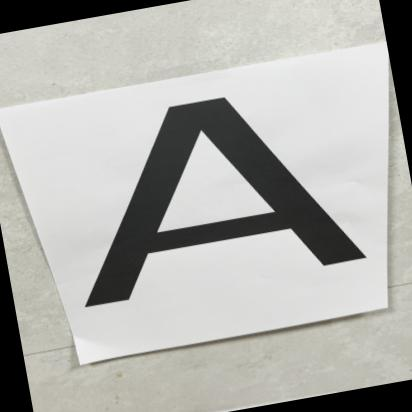seat: (27, 63, 391, 322)
